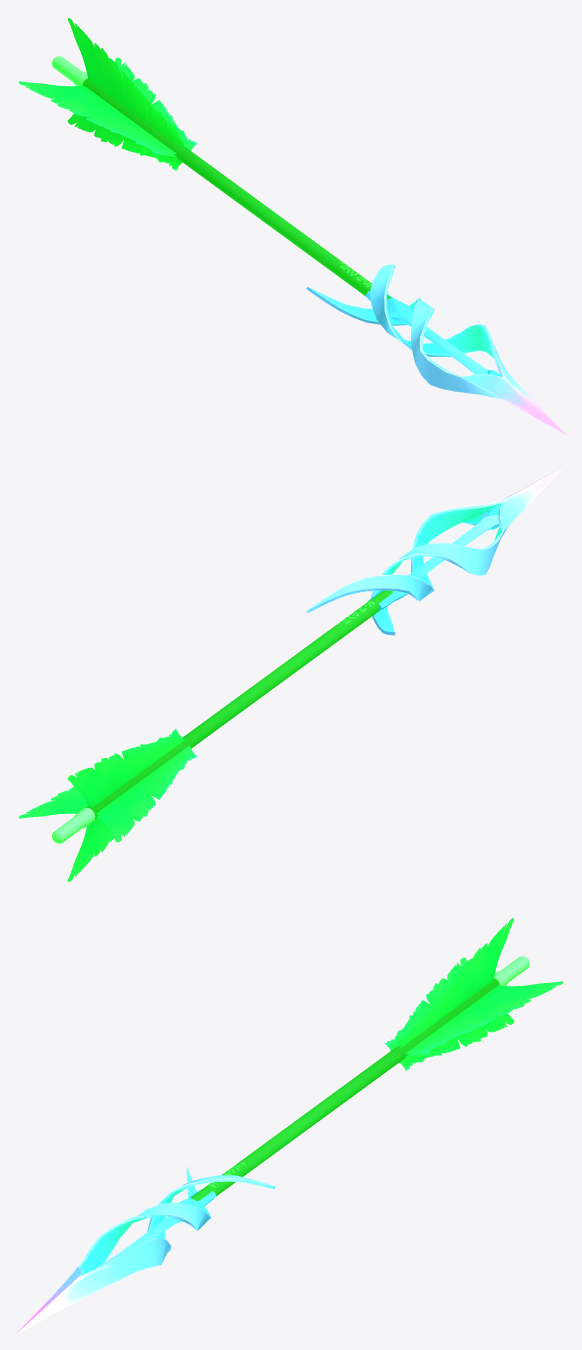
File: specialArrow.fbx
3 views of the same model, one above another, from view 1: azimuth 30°, elevation 25°; view 2: azimuth 150°, elevation 25°; view 3: azimuth 330°, elevation 25° (orthographic).
Visible parts, largest first — view 1: SpecialArrow; view 2: SpecialArrow; view 3: SpecialArrow.
Boxes of the visible parts, bbox=[...] form: SpecialArrow: bbox=[18, 18, 567, 435]; SpecialArrow: bbox=[18, 464, 567, 881]; SpecialArrow: bbox=[14, 918, 563, 1335].
Bounding box in the file's own units: 41.9 × 41.87 × 355.
1 material, 1 textured.
